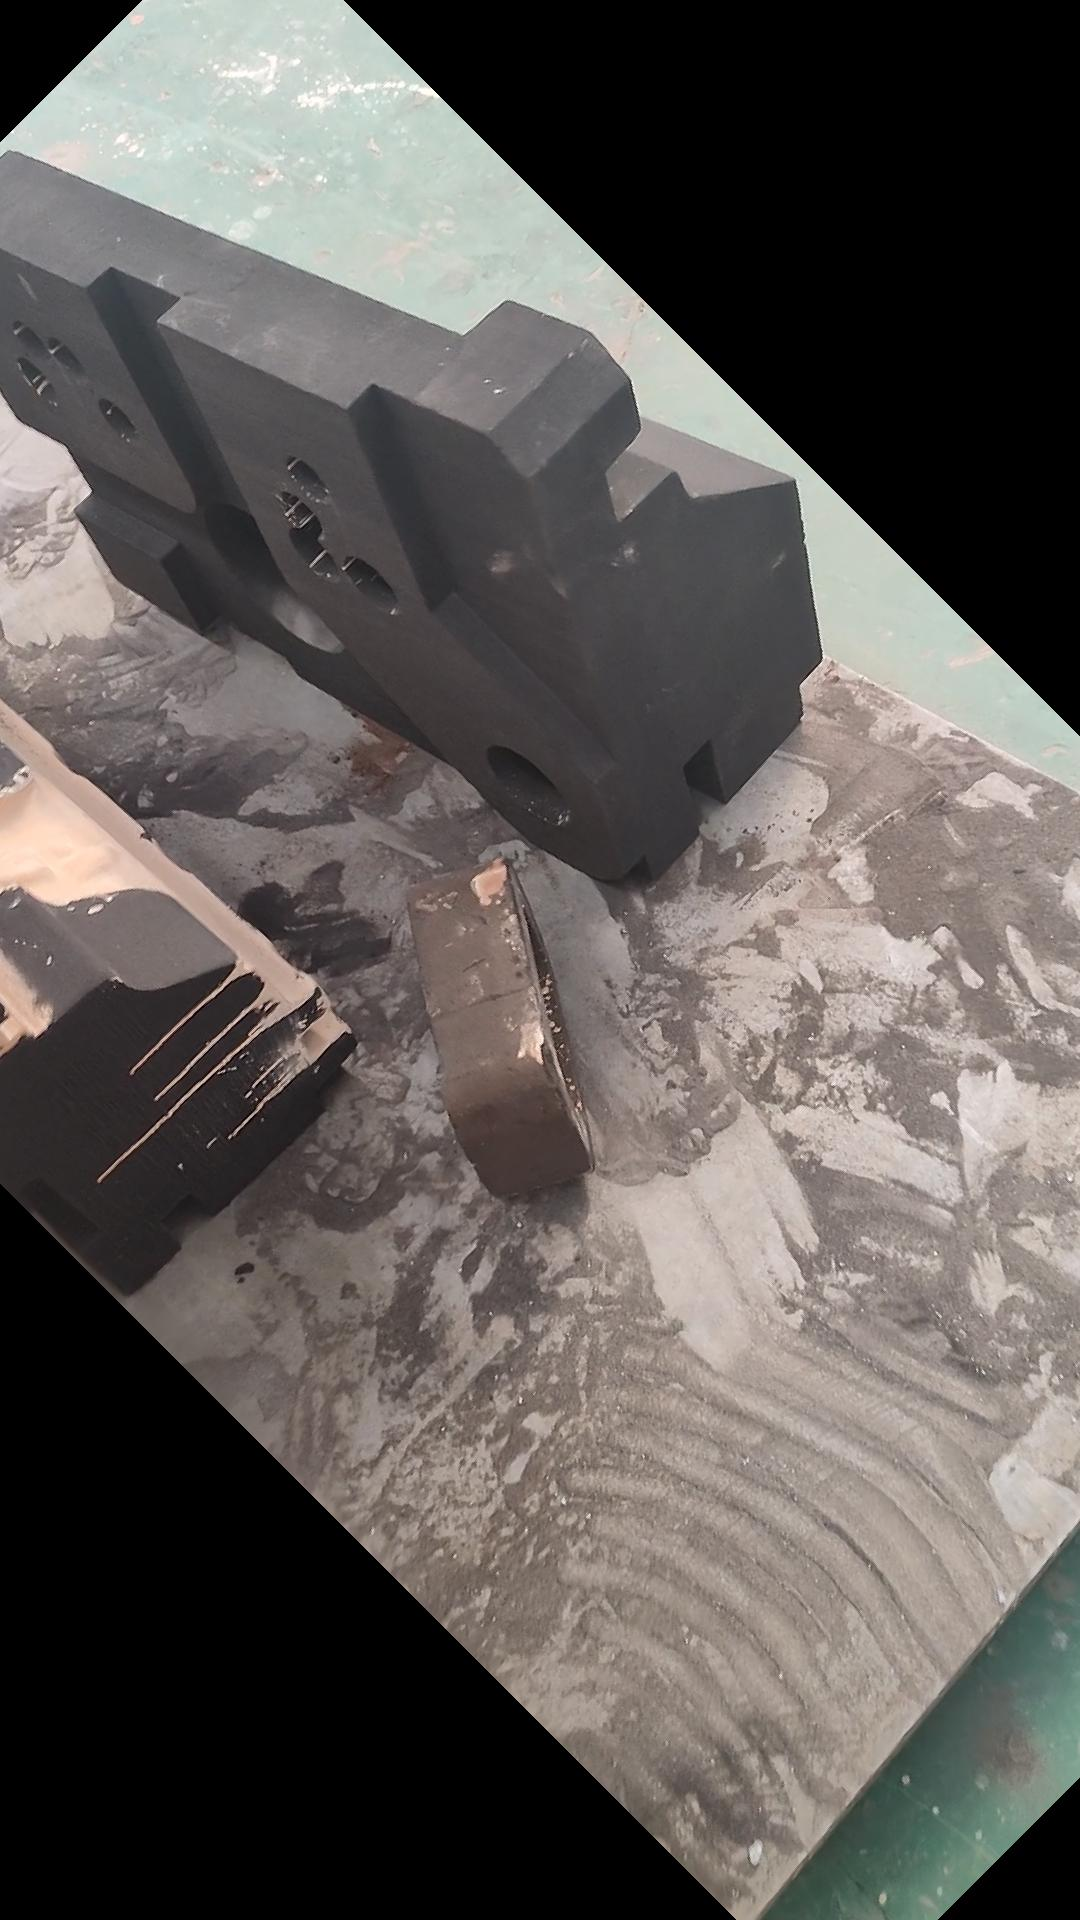pouring hole: (489, 746, 572, 825)
